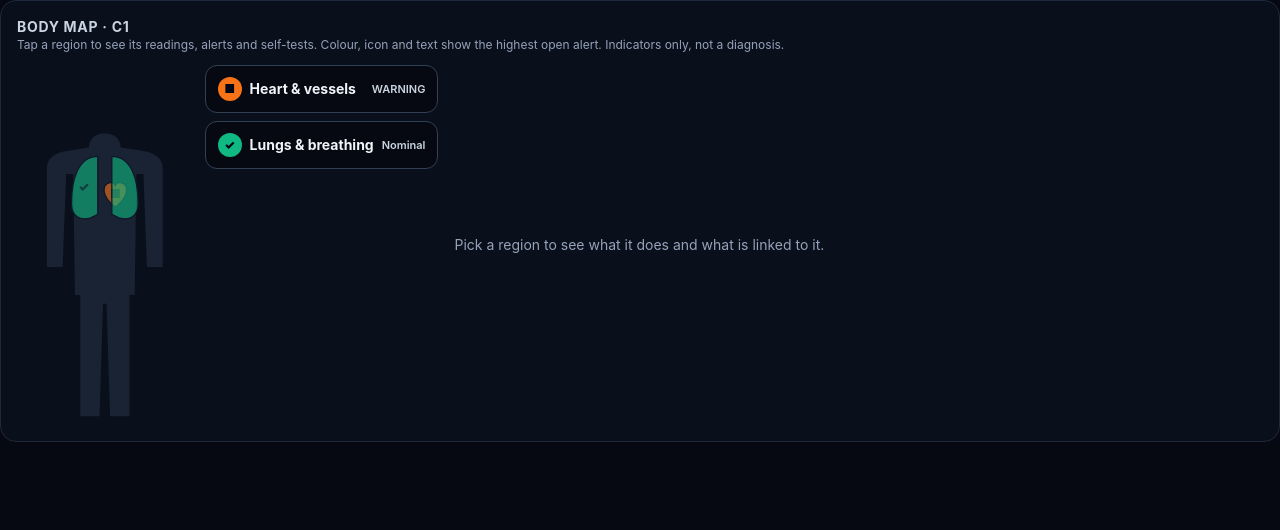
Scenario: T-6 BodyMap component › drawer shows readings with a source badge, HRP risks, alerts with LOM sublabel and Start buttons
Later steps or results of the test are not shown.
Click the button with test id "bodymap-region-heart_vessels".
click(322, 89)  # box [205, 65, 438, 113]
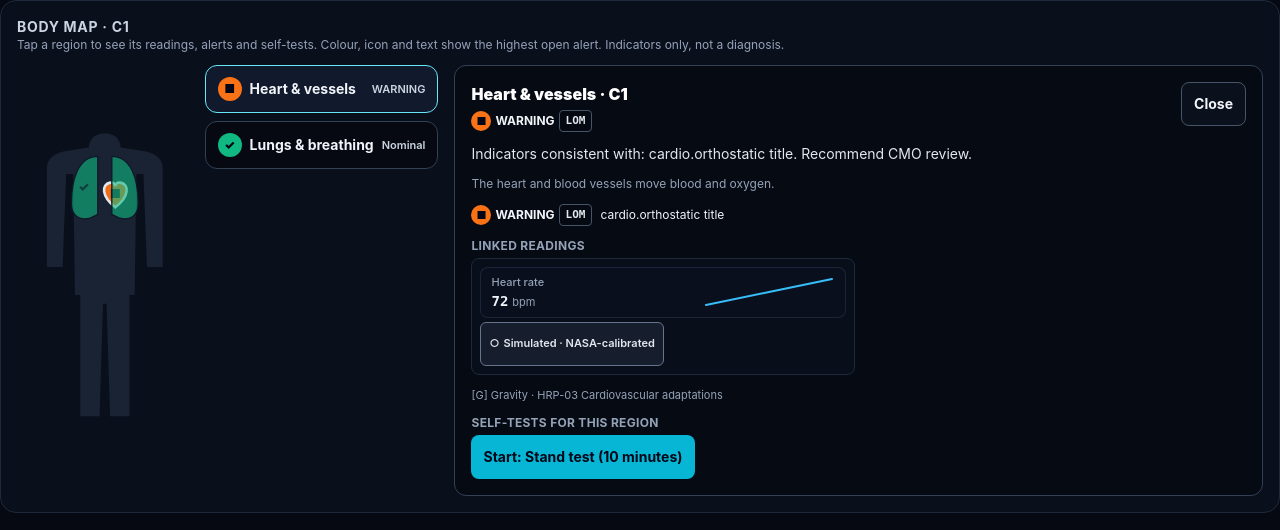
Result: the element with test id "bodymap-drawer-heart_vessels" shows "Indicators consistent with" at [472, 145, 972, 162]
Result: the element with test id "bodymap-drawer-heart_vessels" shows "HRP-03" at [537, 388, 723, 402]
Result: the element with test id "bodymap-drawer-heart_vessels" shows "LOM" at [566, 114, 586, 127]
